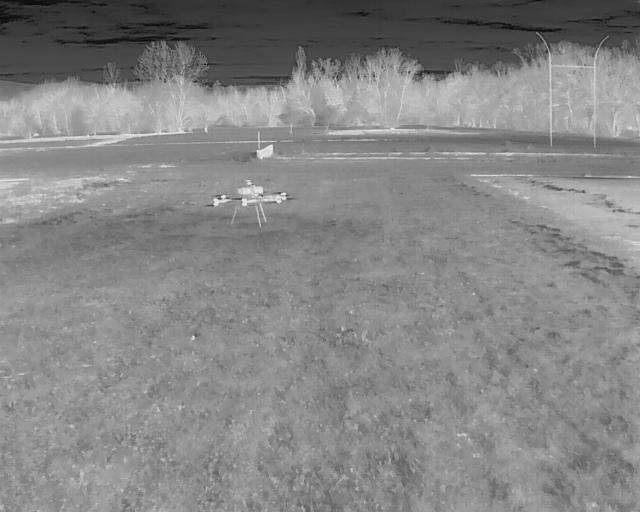drone: (201, 172, 293, 230)
